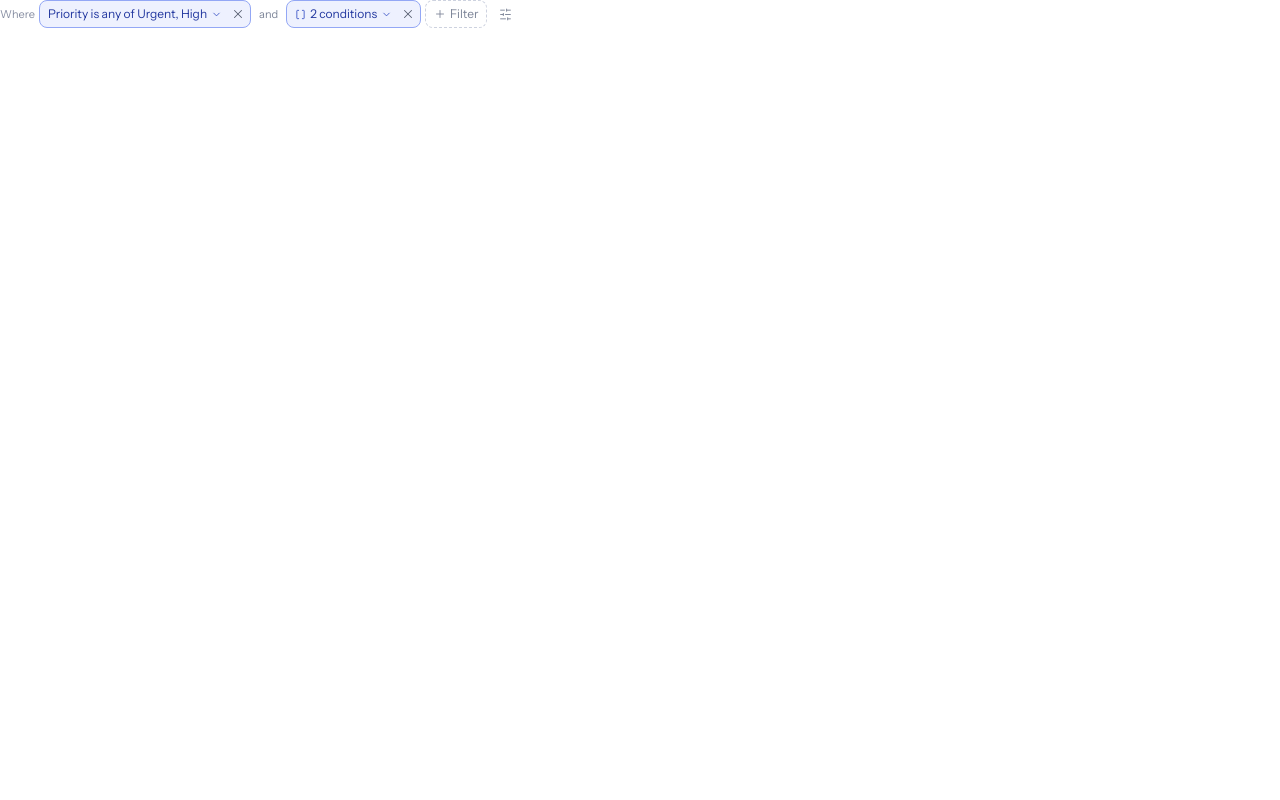
Test case: a status condition gets the same picker at any depth (M16.29) › renders a picker showing the option label inside a nested group
Click the button with test id "filter-chip-1" at (342,14), box [287,1,396,27]
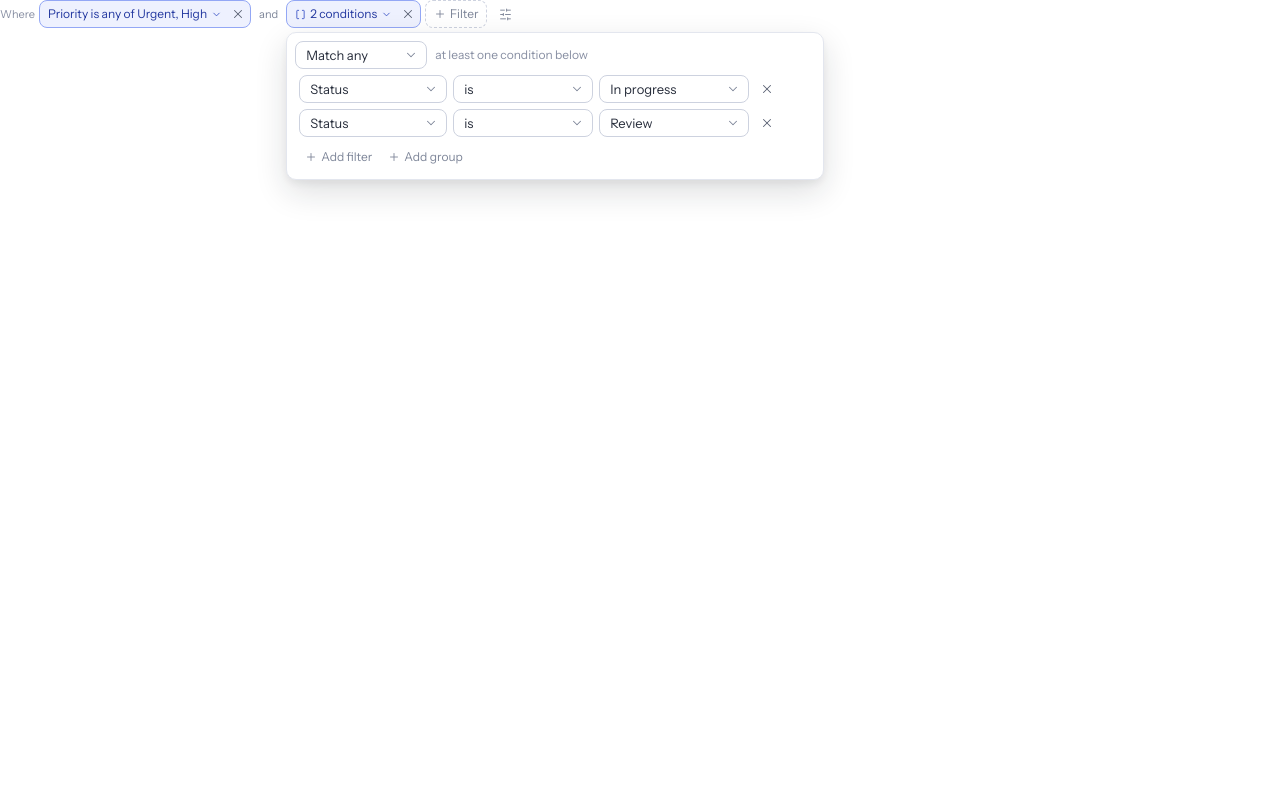
Expected: the button with aria-label "Filter value" reads "In progress", [599,75,749,103]
Expected: the button with aria-label "Filter value" reads "Review", [599,109,749,137]
